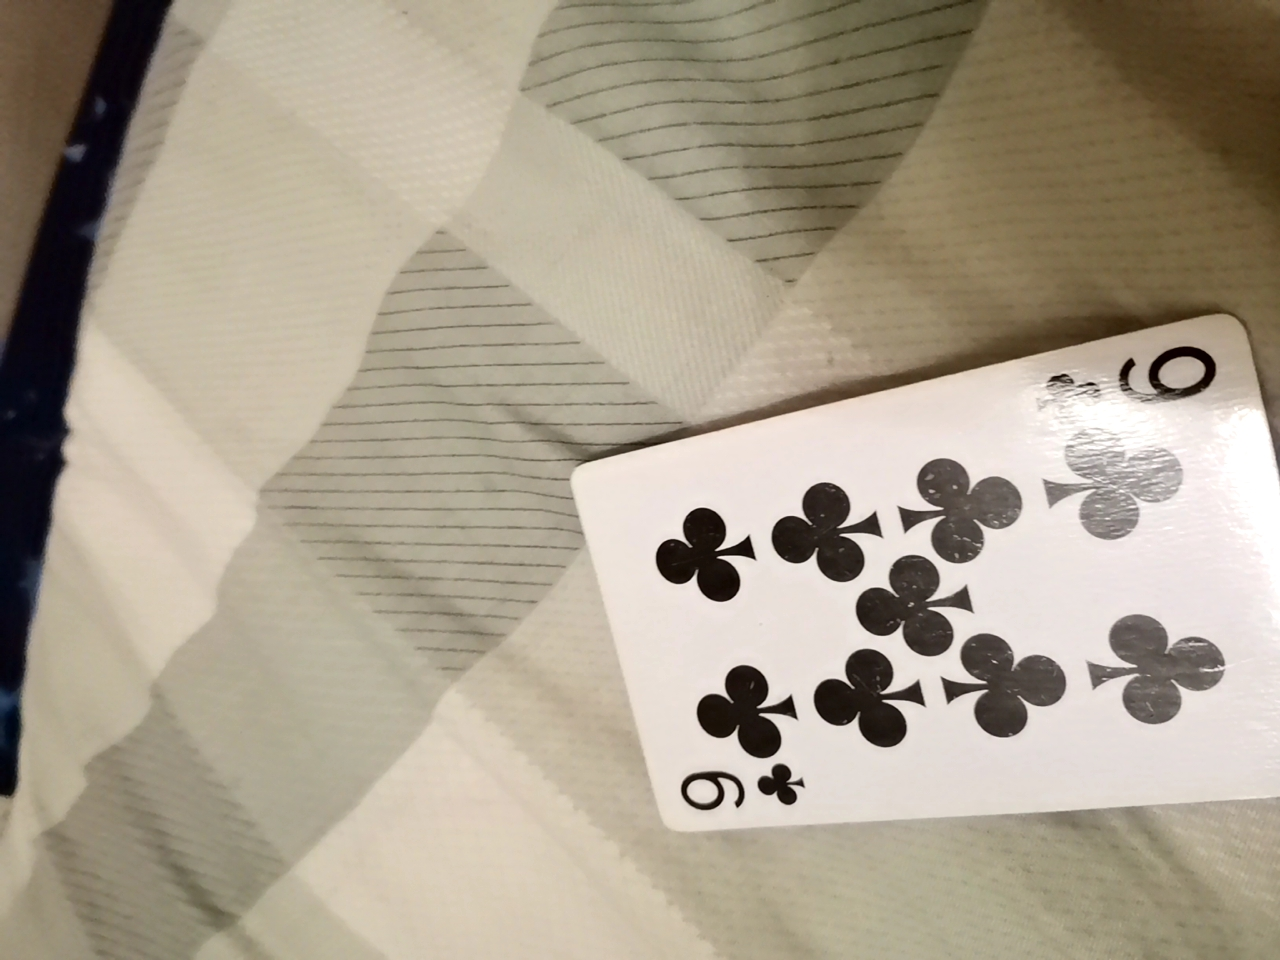mh 9: (558, 332, 1270, 837)
